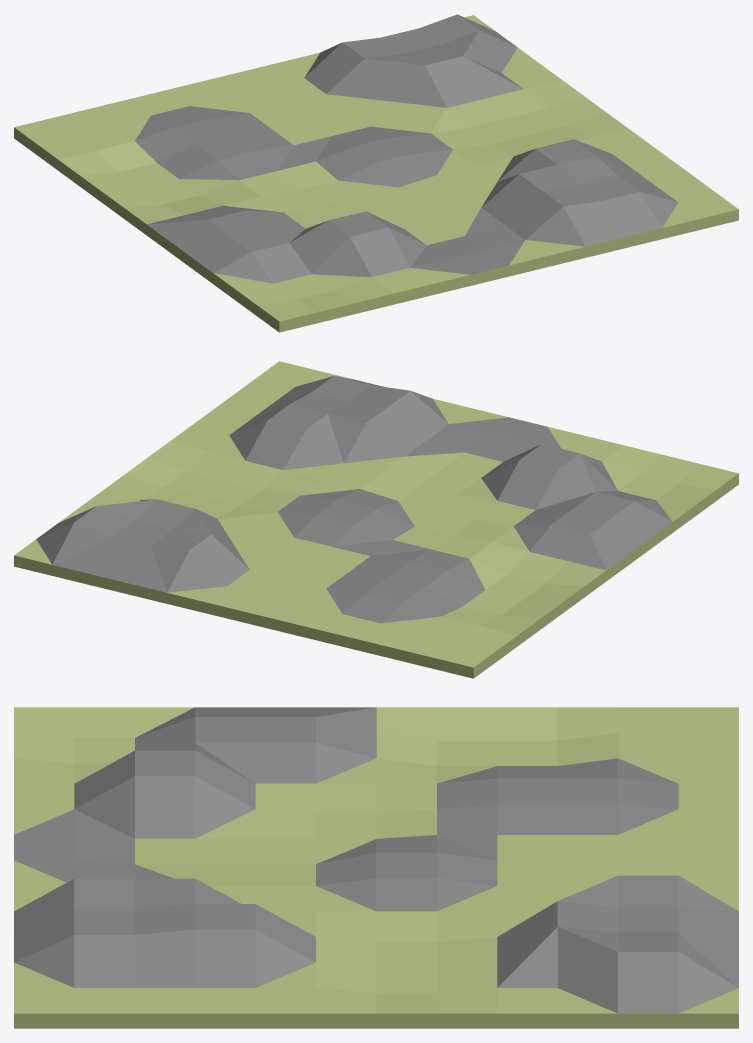
The model's file is Rock IV.fbx.
3 views of the same model, one above another, from view 1: azimuth 30°, elevation 25°; view 2: azimuth 150°, elevation 25°; view 3: azimuth 270°, elevation 25° (orthographic). The views are drawn at different scales.
Parts seen in each view (by area): view 1: Rock IV; view 2: Rock IV; view 3: Rock IV.
Part boxes in pixels (box(x1,y1,x2,y2)): Rock IV: box(14, 14, 738, 332); Rock IV: box(14, 361, 738, 678); Rock IV: box(14, 707, 738, 1028).
Bounding box in the file's own units: 1600 × 125 × 1600.
